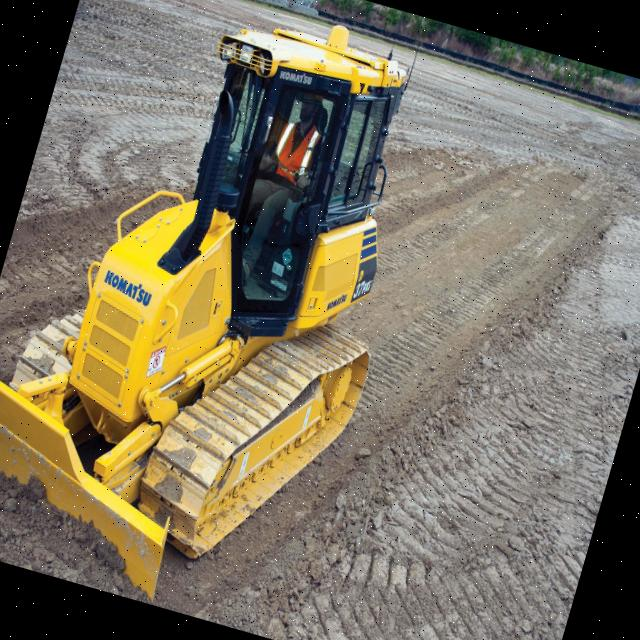Bulldozer: (0, 0, 456, 634)
